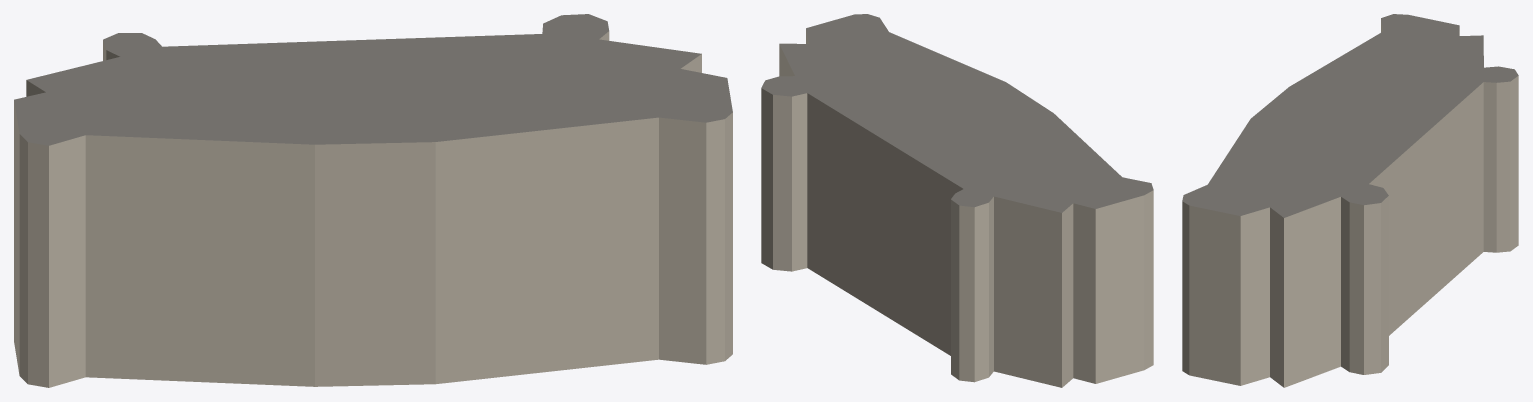
3 renders of one model, left to right at view 1: azimuth 30°, elevation 25°; view 2: azimuth 150°, elevation 25°; view 3: azimuth 270°, elevation 25°, orthographic. The views are drawn at different scales.
Parts seen in each view (by area): view 1: HP-w1270806032; view 2: HP-w1270806032; view 3: HP-w1270806032.
Boxes of the visible parts, x1=… form: HP-w1270806032: x1=14, y1=14, x2=732, y2=387; HP-w1270806032: x1=761, y1=14, x2=1153, y2=387; HP-w1270806032: x1=1182, y1=14, x2=1518, y2=387.
Size of the model in its own units: 46.38 by 18 by 32.32.
